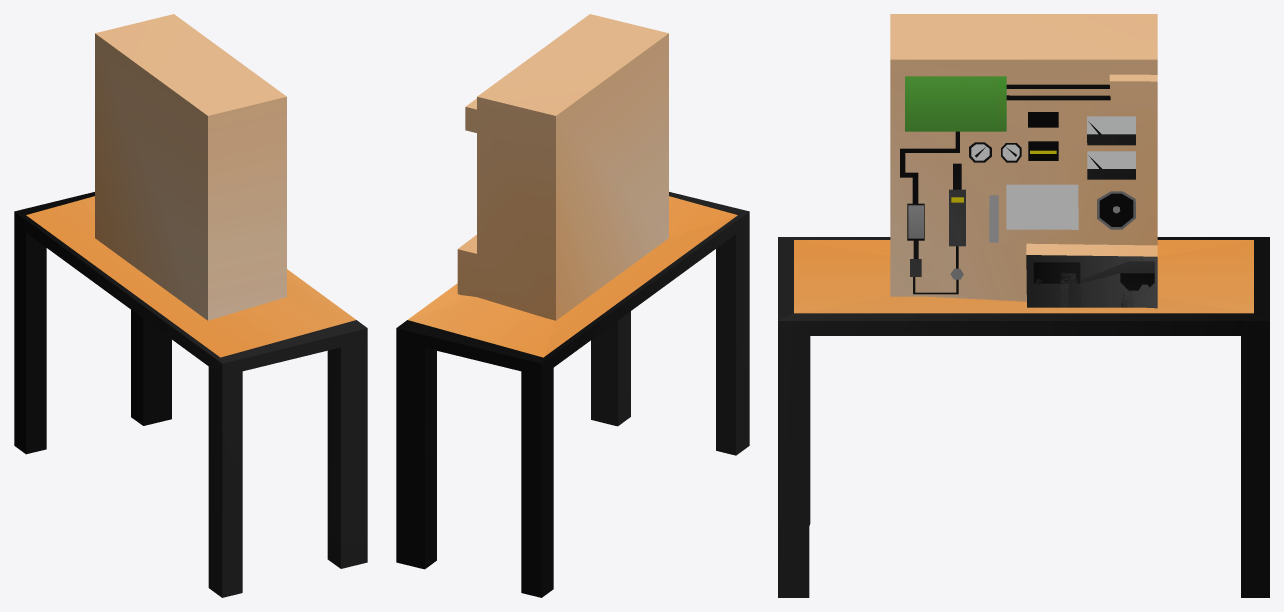
The model's file is Equpio de refrigeración.fbx.
3 views of the same model, side by side, from view 1: azimuth 30°, elevation 25°; view 2: azimuth 150°, elevation 25°; view 3: azimuth 270°, elevation 25° (orthographic). The views are drawn at different scales.
Visible parts, largest first — view 1: Cube; view 2: Cube; view 3: Cube.
Boxes of the visible parts, box(x1,y1,x2,y2) form: Cube: box(14, 14, 367, 597); Cube: box(396, 14, 749, 597); Cube: box(778, 14, 1269, 597).
Bounding box in the file's own units: 149 × 429 × 368.
